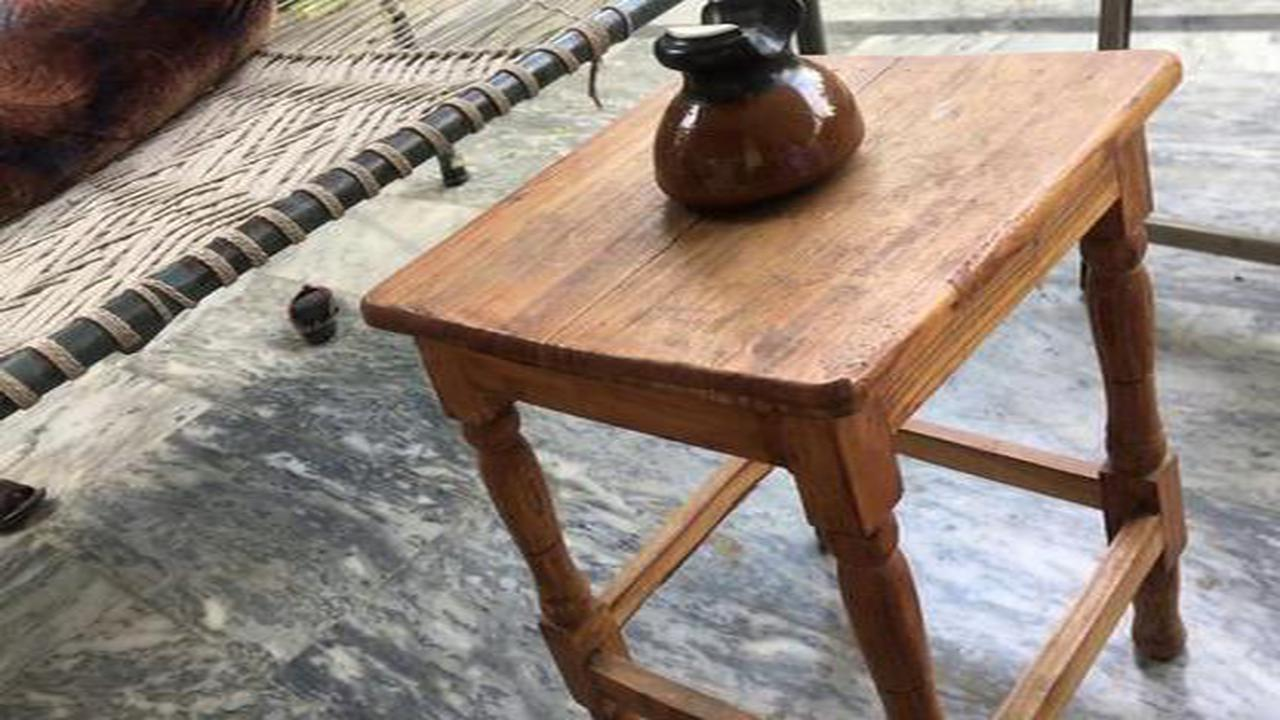insulator_pin: (628, 2, 887, 243)
